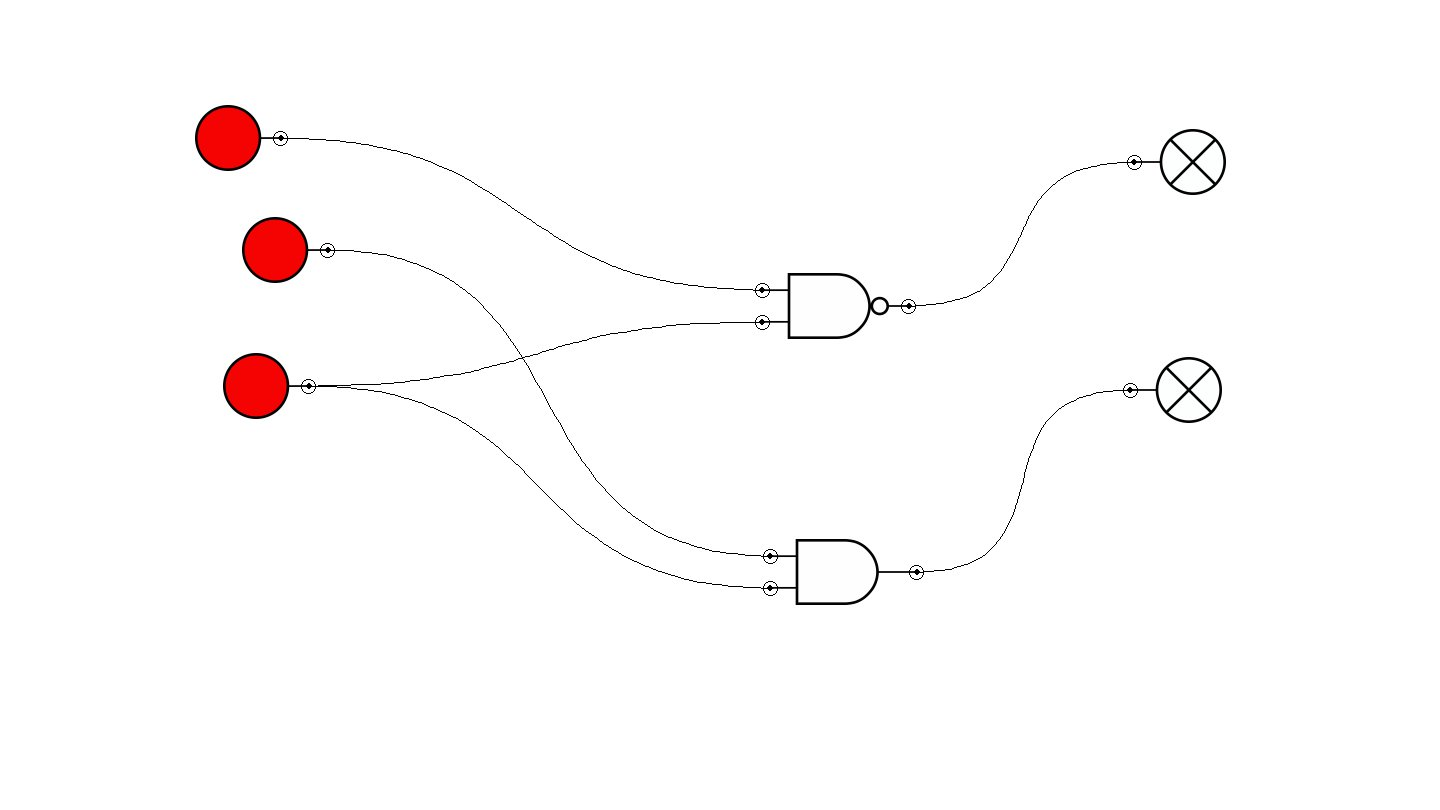and: (763, 539, 924, 605)
bulb: (1127, 129, 1226, 195), (1123, 357, 1222, 423)
nand: (755, 273, 916, 339)
switch_False: (223, 353, 316, 419), (242, 217, 335, 283), (195, 105, 288, 171)
